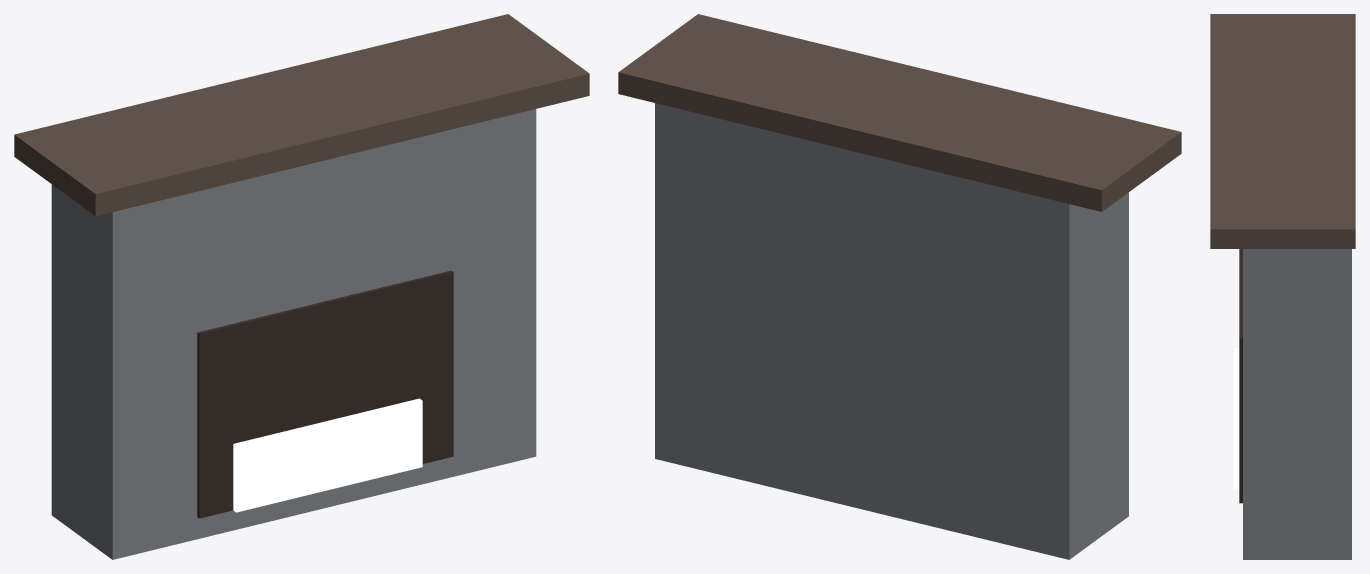
Rendered from chimenea.glb.
3 renders of one model, left to right at view 1: azimuth 30°, elevation 25°; view 2: azimuth 150°, elevation 25°; view 3: azimuth 270°, elevation 25°, orthographic. The views are drawn at different scales.
Parts seen in each view (by area): view 1: Chimenea_240; view 2: Chimenea_240; view 3: Chimenea_240.
Part boxes in pixels (x1,y1,x2,y2): Chimenea_240: [14, 14, 589, 559]; Chimenea_240: [618, 14, 1181, 559]; Chimenea_240: [1210, 14, 1355, 559].
Size of the model in its own units: 2.8 by 2.1 by 0.8.
